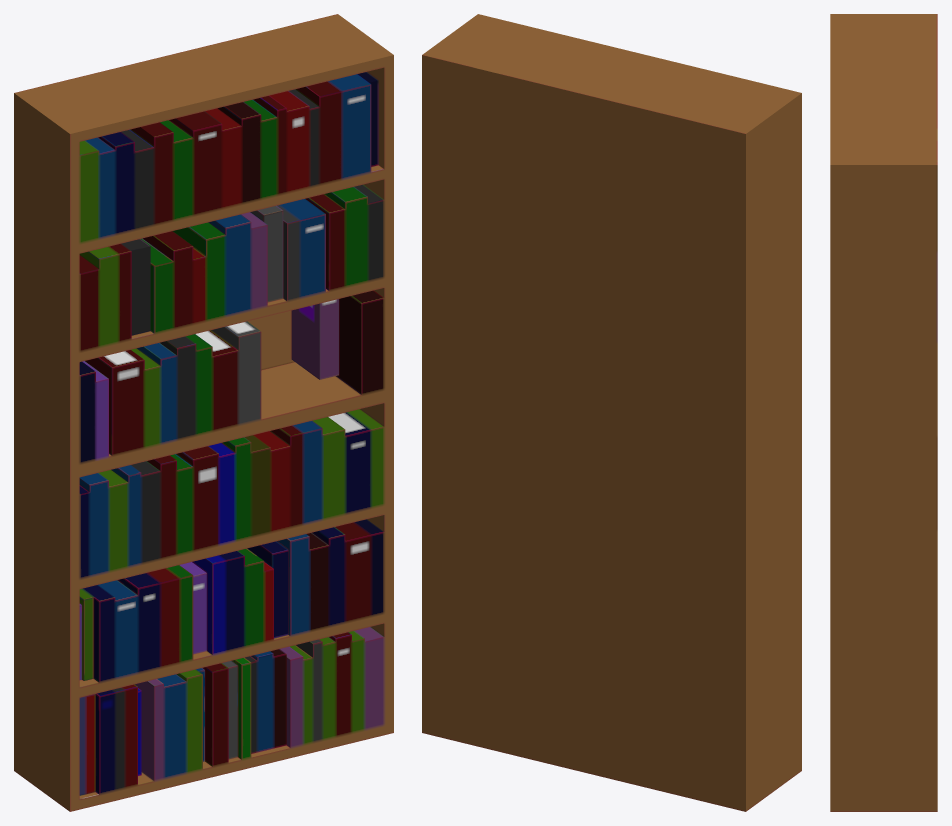
File: insert bookshelf_14.obj
3 views of the same model, side by side, from view 1: azimuth 30°, elevation 25°; view 2: azimuth 150°, elevation 25°; view 3: azimuth 270°, elevation 25° (orthographic). The views are drawn at different scales.
Parts seen in each view (by area): view 1: insert_bookshelf_14; view 2: insert_bookshelf_14; view 3: insert_bookshelf_14.
Part boxes in pixels (<box>): insert_bookshelf_14: <box>14,14,393,811</box>; insert_bookshelf_14: <box>422,14,801,811</box>; insert_bookshelf_14: <box>830,14,937,811</box>.
Size of the model in its own units: 10 by 20 by 3.
1 material, 1 textured.
